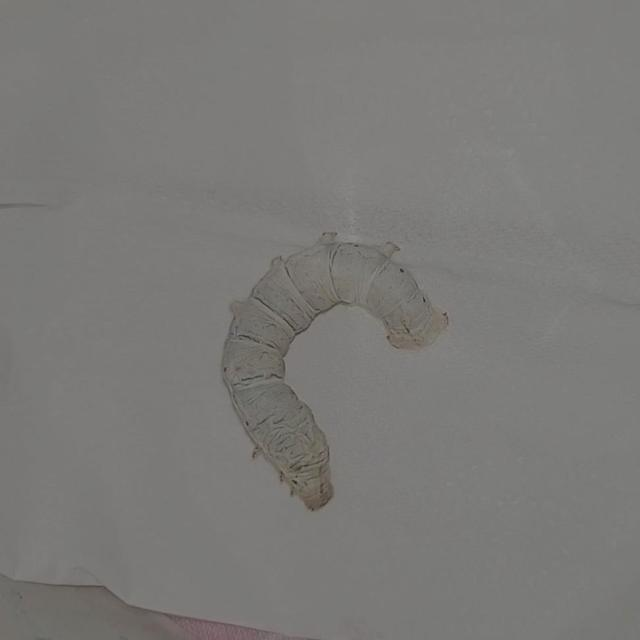Healthy: (173, 188, 493, 534)
